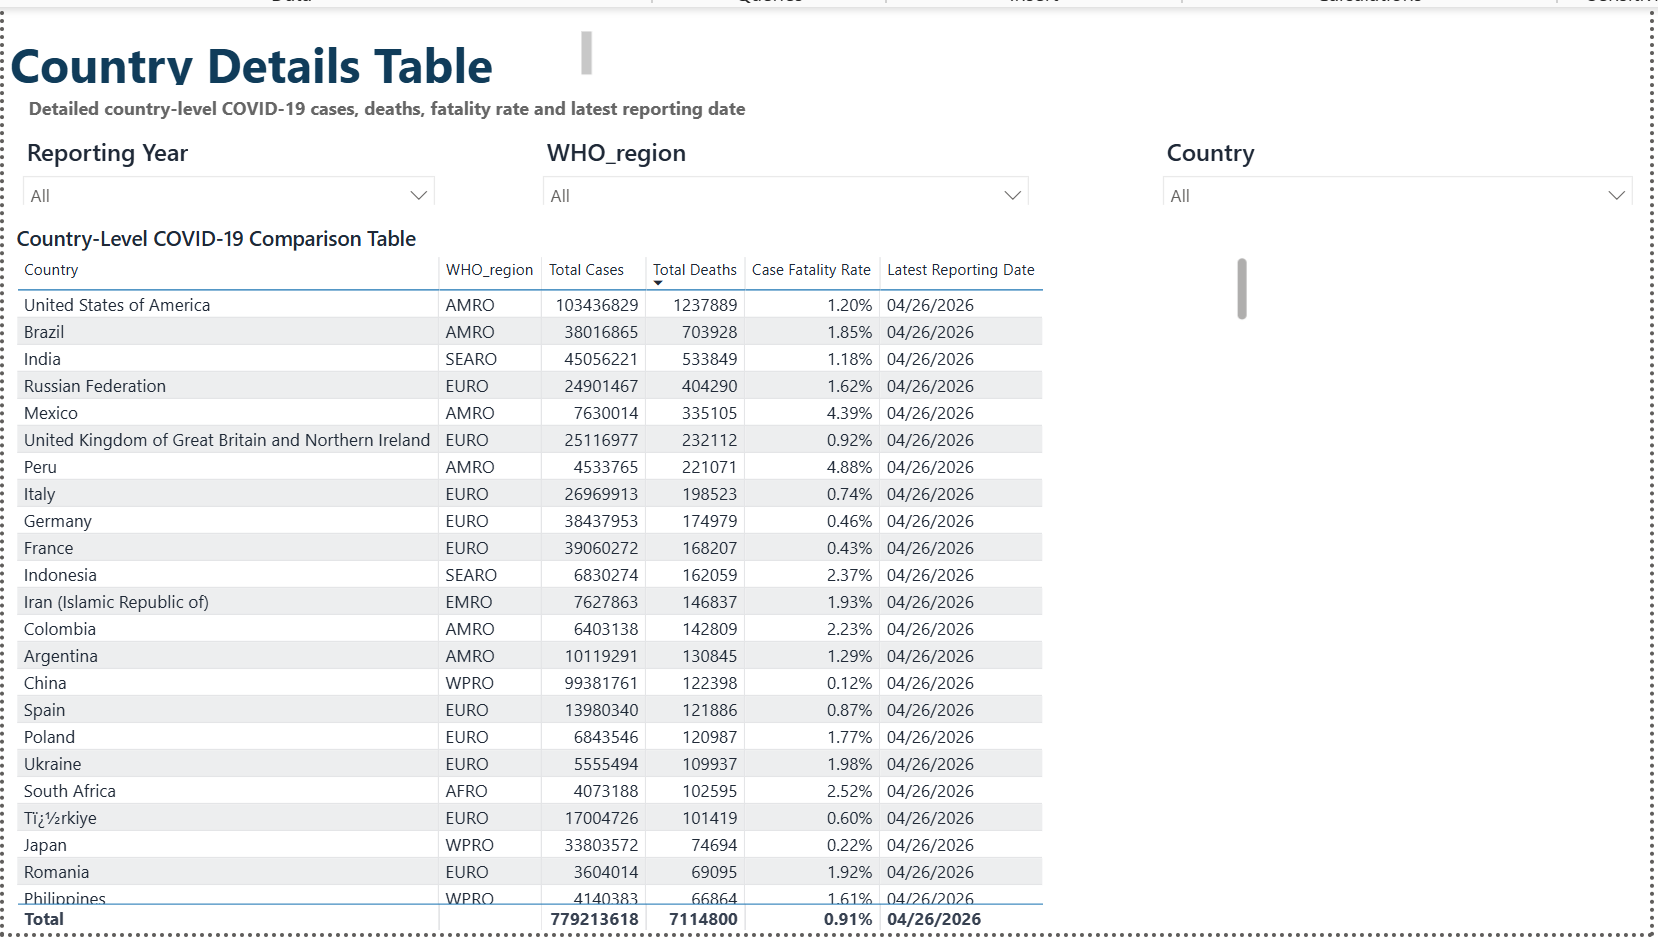

The page's visual inventory and layout, read from the dashboard file:
{"tool":"powerbi","page":{"name":"Country Details","canvas":[1280,720],"ordinal":2},"visuals":[{"type":"tableEx","title":"Country-Level COVID-19 Comparison Table","fields":{"Values":["Fact_COVID19_Weekly_WHO.Country","Fact_COVID19_Weekly_WHO.WHO_region","Fact_COVID19_Weekly_WHO.Total Cases","Fact_COVID19_Weekly_WHO.Total Deaths","Fact_COVID19_Weekly_WHO.Case Fatality Rate","Fact_COVID19_Weekly_WHO.Latest Reporting Date"]},"box":[4.7,167.9,967.3,555.2],"z":0},{"type":"textbox","box":[0,13.3,462,51.1],"z":1000},{"type":"textbox","box":[13.3,64.4,693,32.2],"z":2000},{"type":"slicer","fields":{"Values":["Fact_COVID19_Weekly_WHO.WHO_region"]},"box":[408.2,94.9,398.1,59.1],"z":3000},{"type":"slicer","fields":{"Values":["Fact_COVID19_Weekly_WHO.Country"]},"box":[890.3,94.9,385.7,59.1],"z":4000},{"type":"slicer","fields":{"Values":["Fact_COVID19_Weekly_WHO.Year"]},"box":[5.4,94.9,340.6,59.1],"z":5000}]}

Visuals, with their boxes on the page's 1280x720 design canvas (x1, y1, x2, y2). These are canvas units, not pixel positions in the 1658x938 screenshot, which may show the page scaled, cropped or inside an application window:
"Country-Level COVID-19 Comparison Table" tableEx: bbox=[5, 168, 972, 723]
textbox: bbox=[0, 13, 462, 64]
textbox: bbox=[13, 64, 706, 97]
slicer - Fact_COVID19_Weekly_WHO.WHO_region: bbox=[408, 95, 806, 154]
slicer - Fact_COVID19_Weekly_WHO.Country: bbox=[890, 95, 1276, 154]
slicer - Fact_COVID19_Weekly_WHO.Year: bbox=[5, 95, 346, 154]
